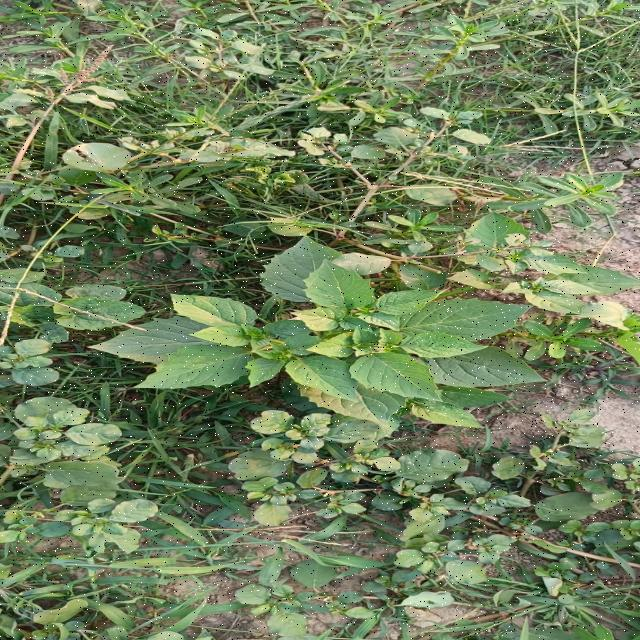plant: (93, 241, 542, 432)
